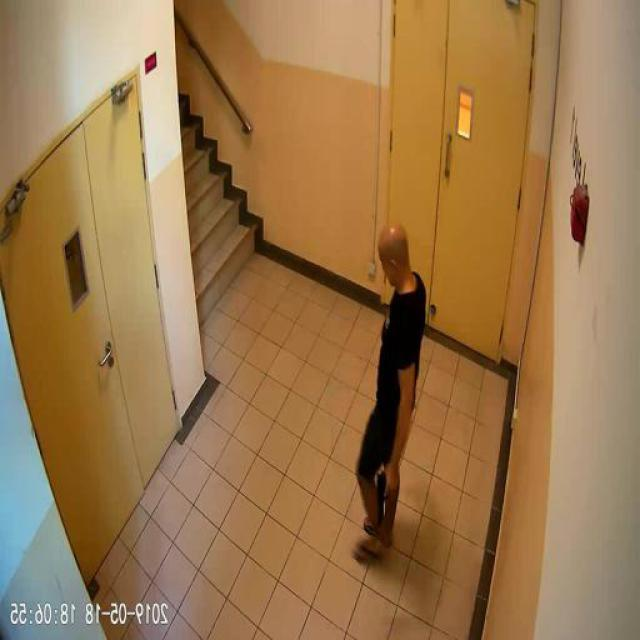weapon: (374, 470, 402, 530)
